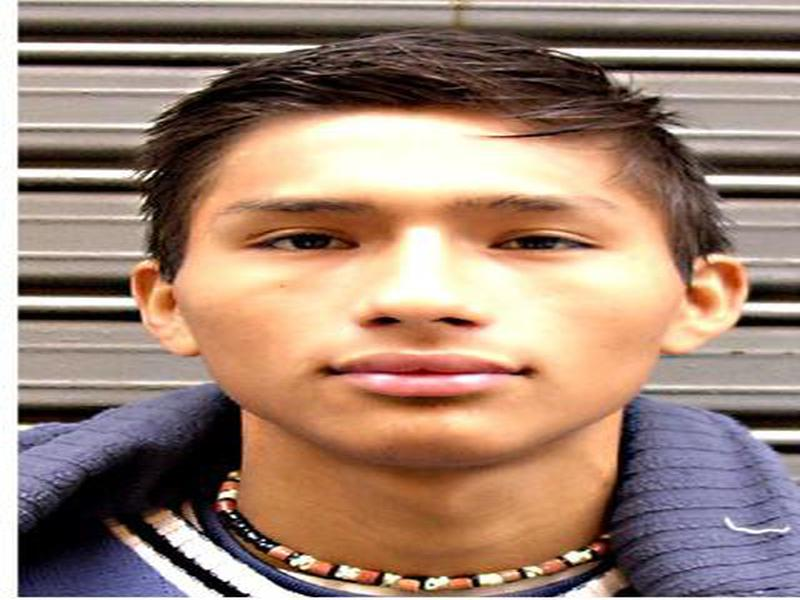without_mask: (183, 125, 670, 470)
